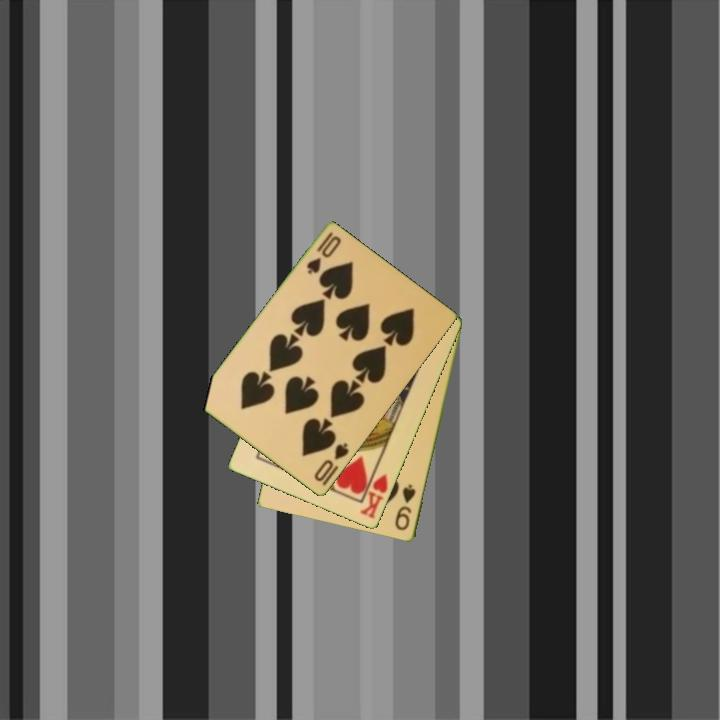10s: (303, 229, 344, 278), (310, 439, 352, 485)
9s: (392, 481, 419, 534)
Kh: (356, 464, 391, 522)
